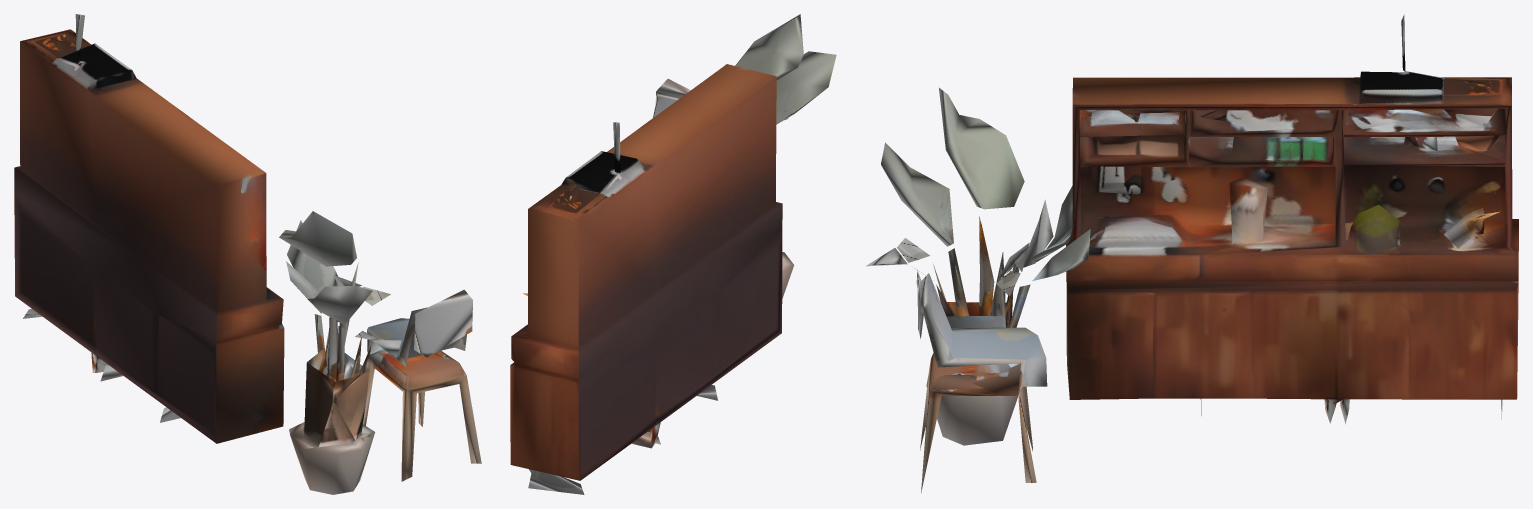
Rendered from 팬트리.glb.
3 renders of one model, left to right at view 1: azimuth 30°, elevation 25°; view 2: azimuth 150°, elevation 25°; view 3: azimuth 270°, elevation 25°, orthographic. The views are drawn at different scales.
Parts seen in each view (by area): view 1: tripo_node_dc92d5f1-ce35-47d2-9915-f629bc151eee; view 2: tripo_node_dc92d5f1-ce35-47d2-9915-f629bc151eee; view 3: tripo_node_dc92d5f1-ce35-47d2-9915-f629bc151eee.
Part boxes in pixels (bbox=[...]): tripo_node_dc92d5f1-ce35-47d2-9915-f629bc151eee: bbox=[14, 14, 481, 494]; tripo_node_dc92d5f1-ce35-47d2-9915-f629bc151eee: bbox=[510, 14, 836, 494]; tripo_node_dc92d5f1-ce35-47d2-9915-f629bc151eee: bbox=[866, 14, 1518, 493].
Bounding box in the file's own units: 0.3975 × 0.6515 × 1.
1 material, 1 textured.
